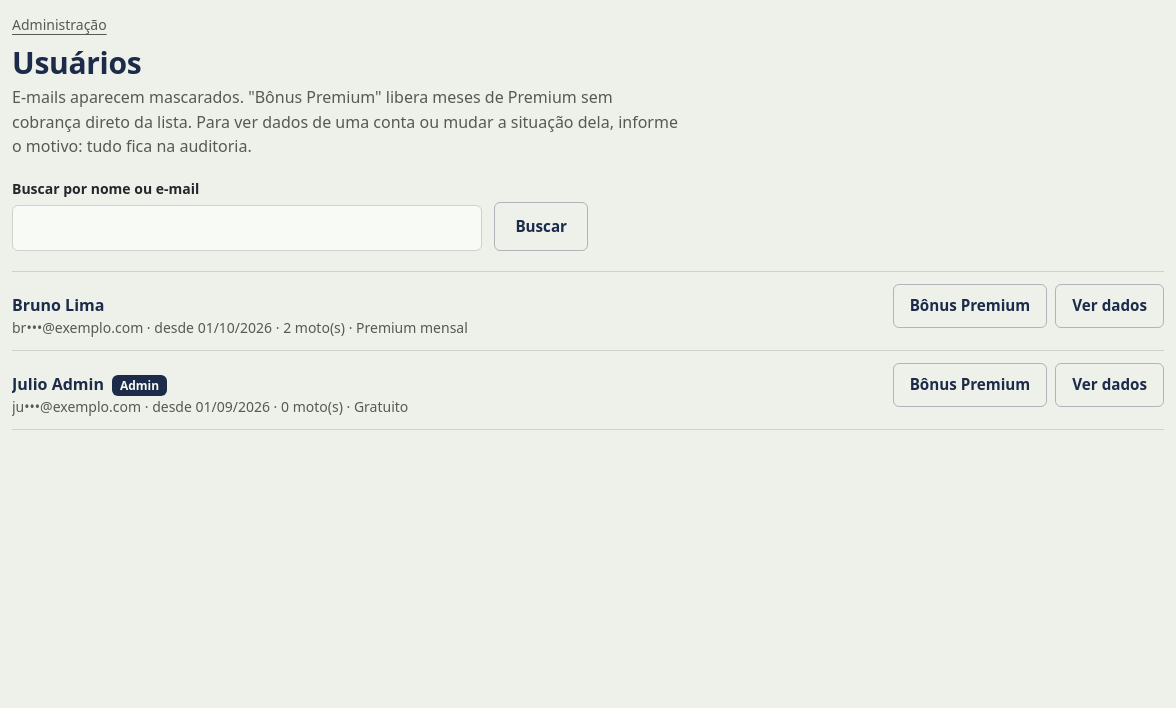
Test: usuários › lista com e-mail mascarado e só abre dados com motivo
Expected: the text "br•••@exemplo.com" is shown, [12,318,143,337]
Click the button "Ver dados" in the row of "Premium mensal" at [1110, 306], box [1055,284,1164,328]
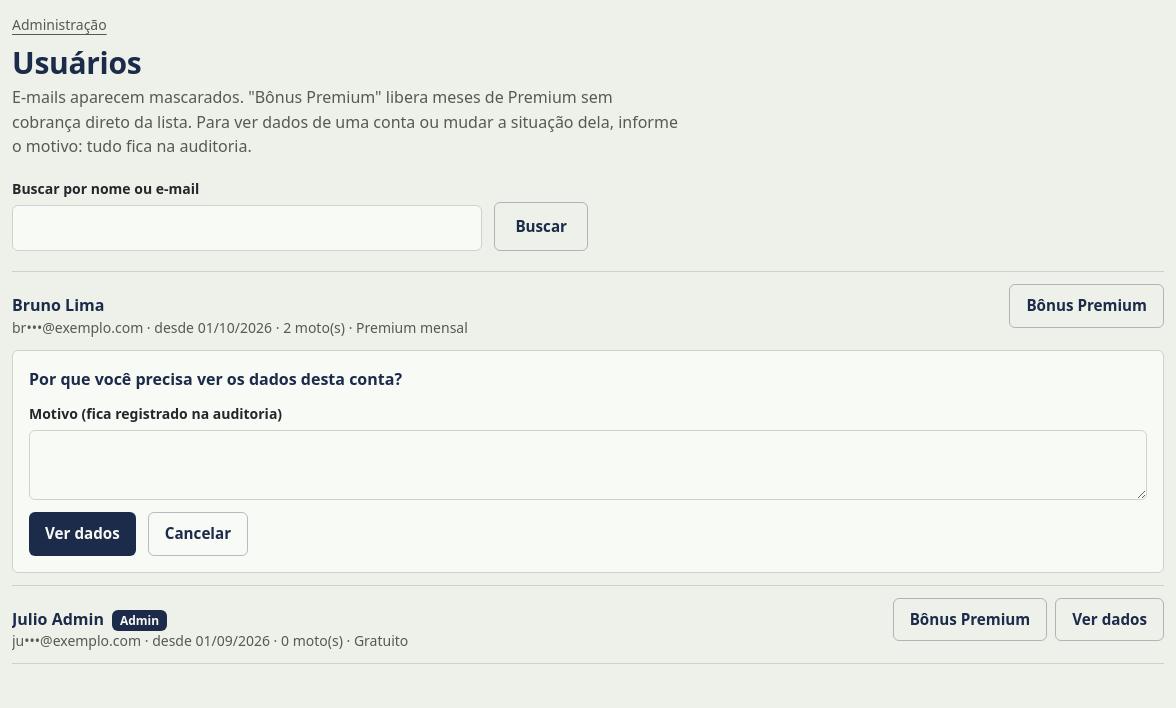
Click the button "Ver dados" below "Motivo (fica registrado na auditoria)" at [82, 534], box [29,512,136,556]
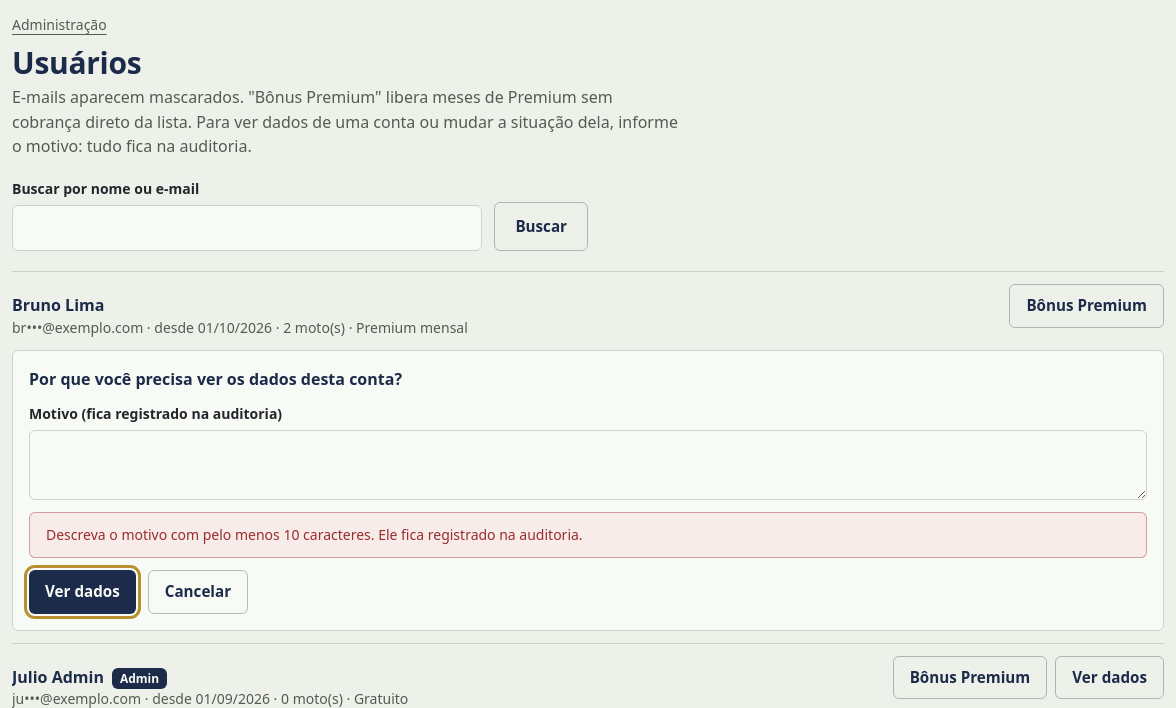
Now the text "pelo menos 10 caracteres" is shown, box [46,525,583,544]
Type "Atendimento: pedido de suporte por e-mail" into the text box labelled "Motivo (fica registrado na auditoria)" at [588, 465], box [29,430,1147,500]
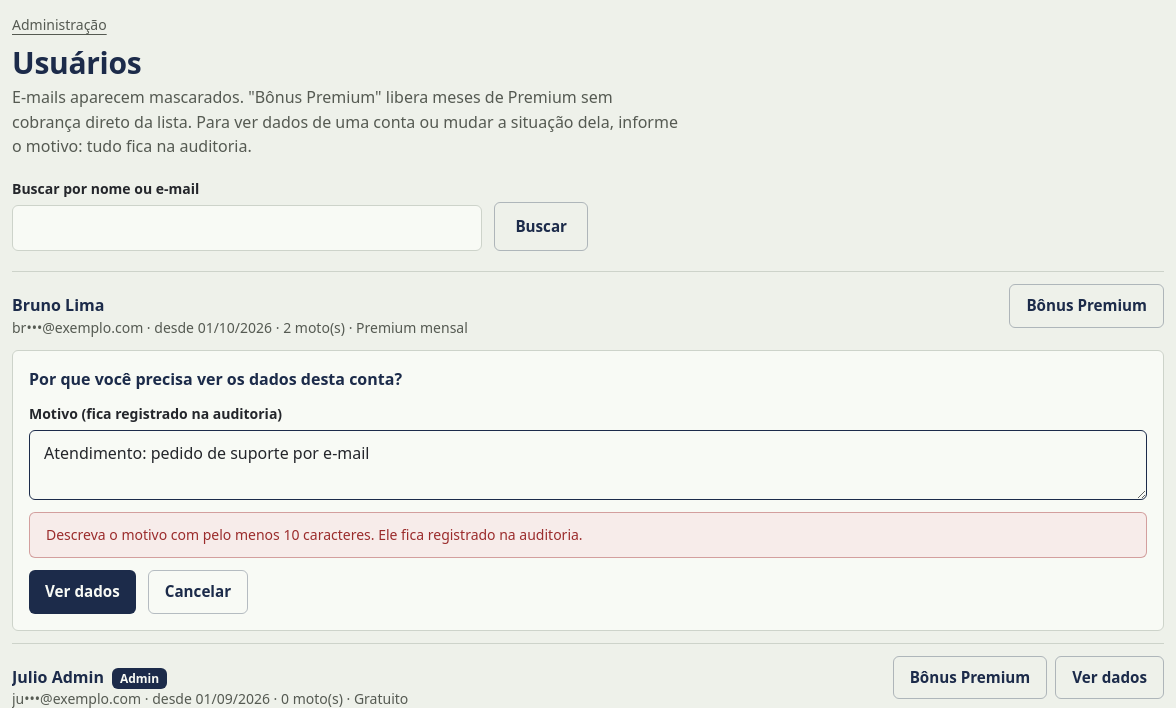
Click the button "Ver dados" below "Motivo (fica registrado na auditoria)" at [82, 592], box [29,570,136,614]
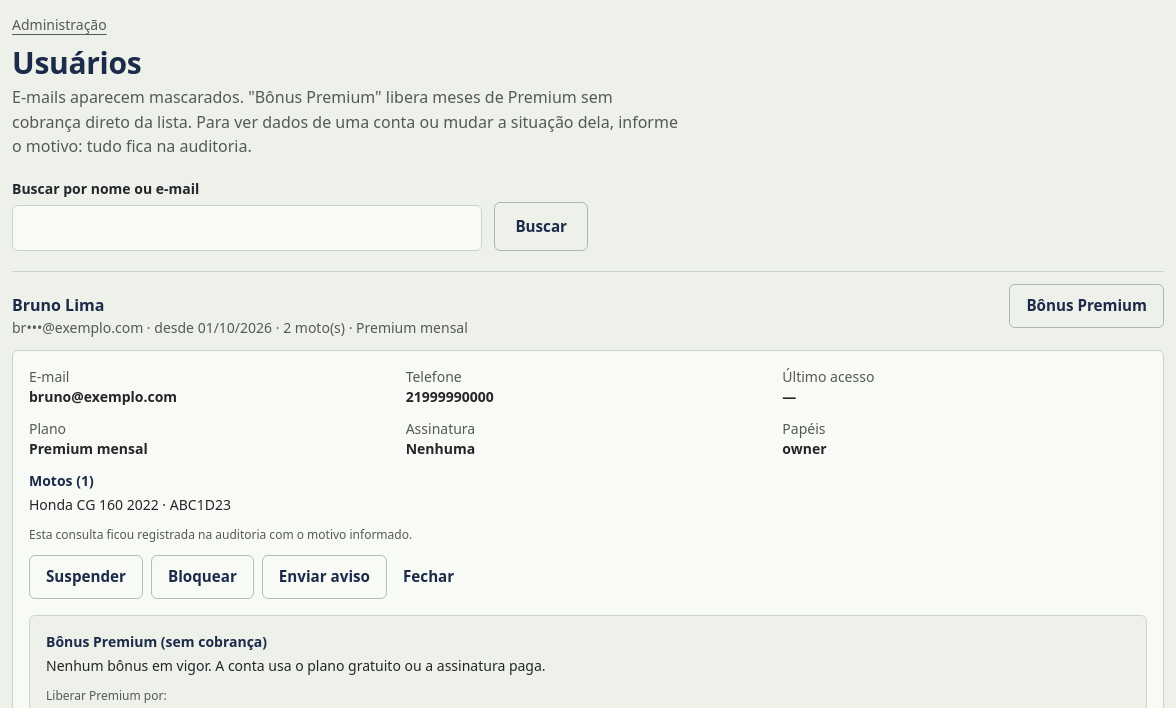
Now the text "bruno@exemplo.com" is shown, box [29,387,177,406]
Now the list item "Honda CG 160 2022 · ABC1D23" is shown, box [29,495,231,514]
